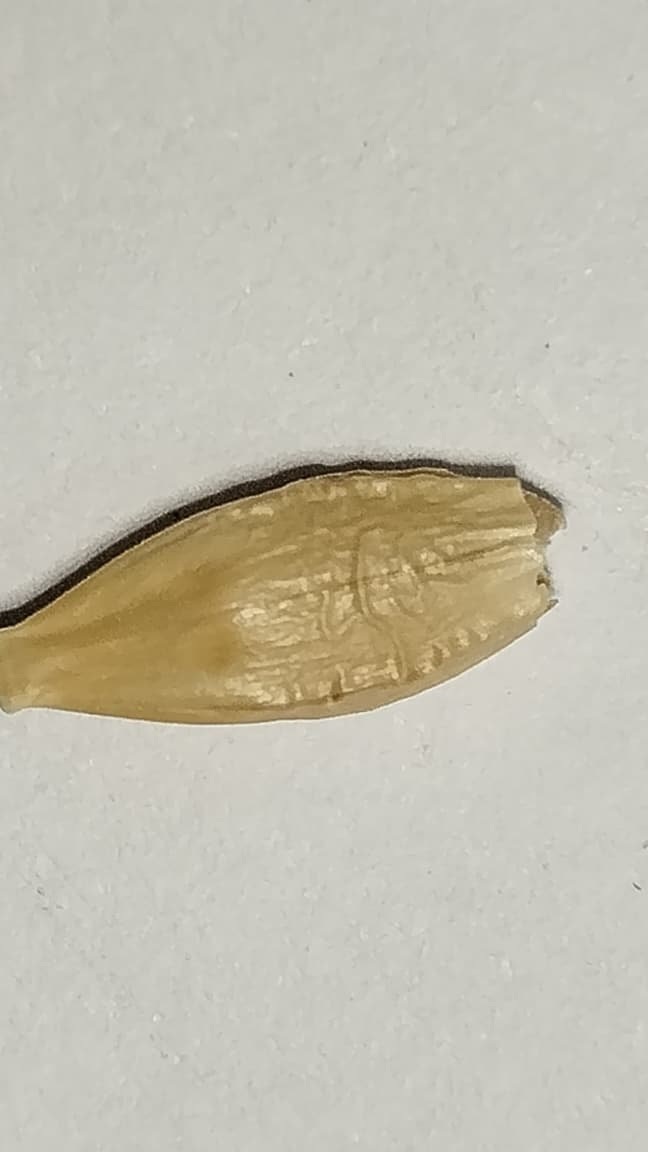healthy-70-60: (0, 469, 562, 723)
insectdamage: (516, 468, 576, 608)
shriveledseed: (293, 472, 473, 698)
